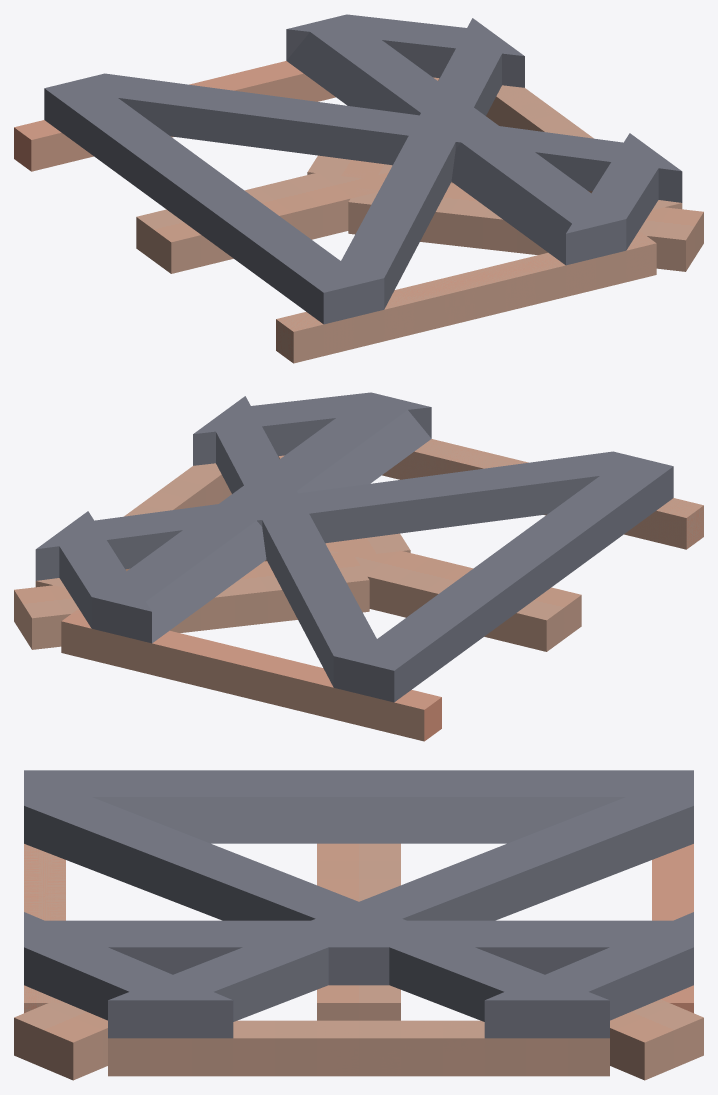
Rendered from rails.gltf.
The picture shows the model from 3 angles, top to bottom: view 1: azimuth 30°, elevation 25°; view 2: azimuth 150°, elevation 25°; view 3: azimuth 270°, elevation 25°; orthographic projection. The views are drawn at different scales.
Parts seen in each view (by area): view 1: halfslat-bottom, halfslat-bottom.004, halfslat-bottom.001; view 2: halfslat-bottom, halfslat-bottom.004, halfslat-bottom.001; view 3: halfslat-bottom, halfslat-bottom.001, halfslat-bottom.004.
Boxes of the visible parts, x1,y1,x2,y2 form: halfslat-bottom: [14, 14, 656, 363]; halfslat-bottom.004: [276, 18, 703, 362]; halfslat-bottom.001: [47, 14, 682, 210]; halfslat-bottom: [61, 392, 703, 741]; halfslat-bottom.004: [35, 392, 703, 587]; halfslat-bottom.001: [14, 396, 394, 701]; halfslat-bottom: [24, 770, 693, 1020]; halfslat-bottom.001: [108, 770, 703, 1080]; halfslat-bottom.004: [14, 771, 609, 1080].
Bounding box in the file's own units: 0.8902 × 0.125 × 1.03.
8 materials, 8 textured.
